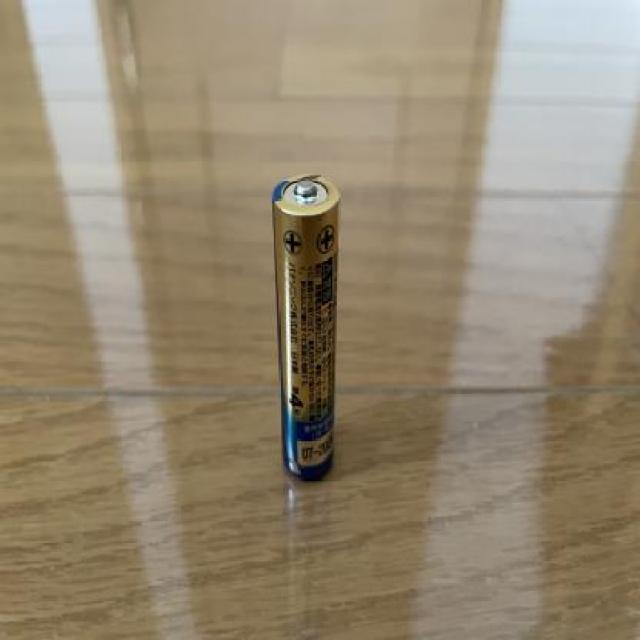AAA: (271, 169, 342, 483)
